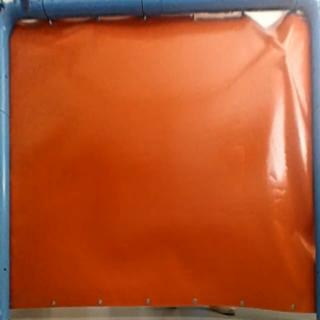Hit-hRxx: (278, 44, 294, 59)
